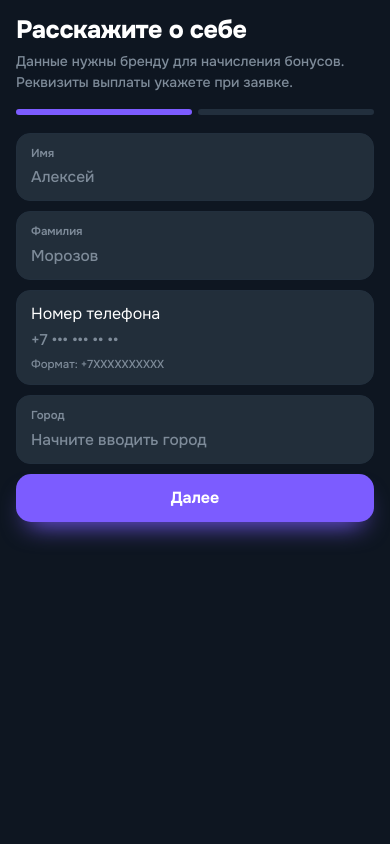
RegPage — city combobox › city_select_commits_name: clicking Москва puts the name in the input
Click the dropdown.
click(195, 440)  # box [31,428,359,452]
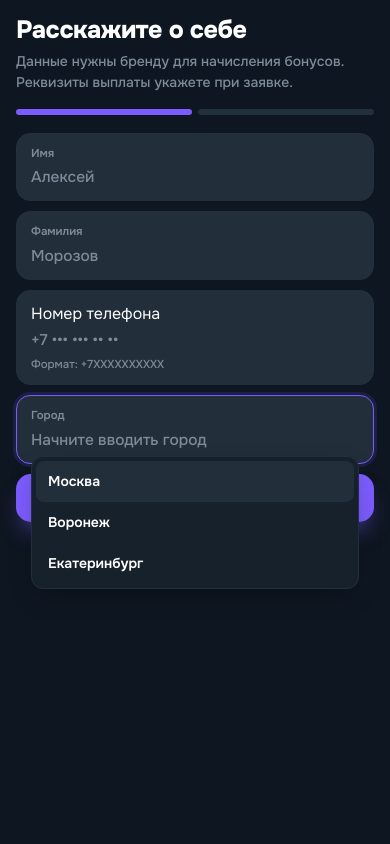
Click the option "Москва".
click(74, 481)  # box [36,461,354,502]
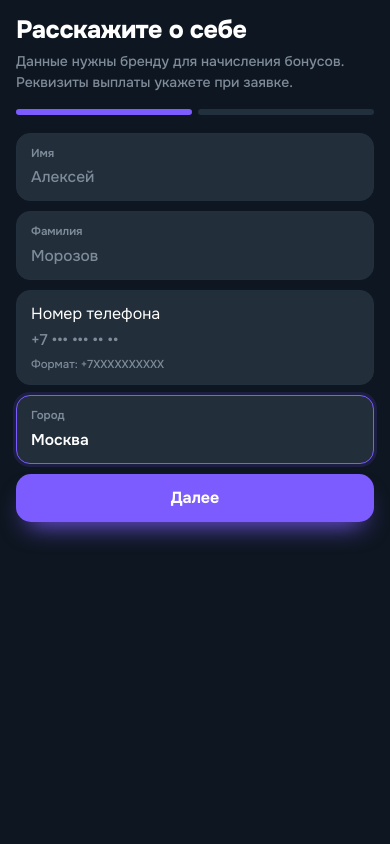
Now the dropdown holds "Москва", box [31,428,359,452]
